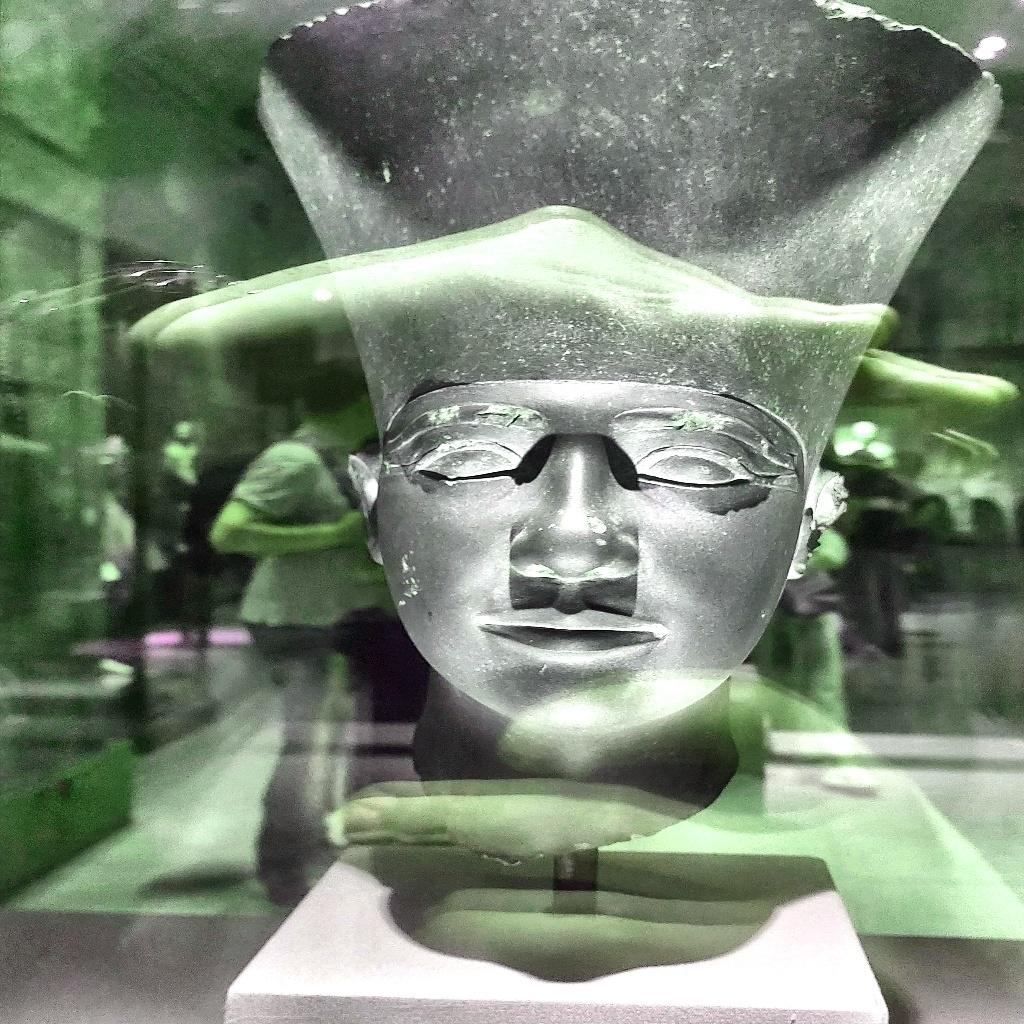Head of Userkaf: (251, 0, 1002, 857)
